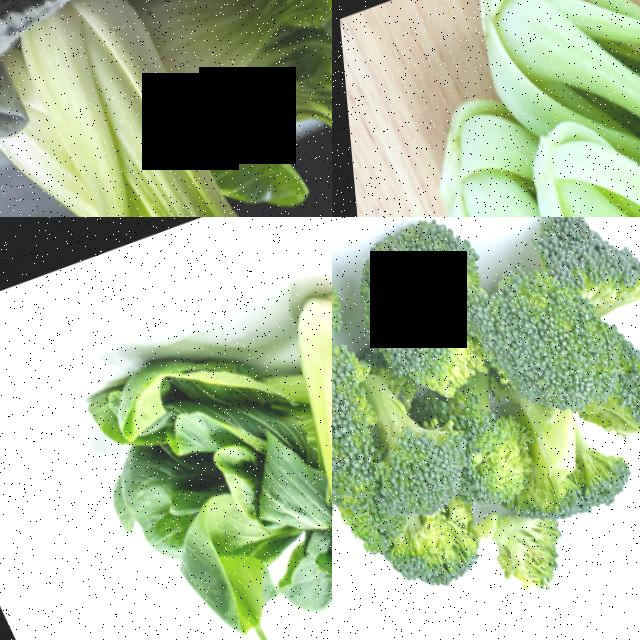-: (461, 246, 640, 441), (332, 241, 405, 516), (340, 230, 469, 385), (332, 358, 458, 511), (516, 217, 640, 335), (377, 520, 491, 607)
bok choy: (0, 0, 332, 217), (227, 256, 332, 640), (156, 0, 332, 217), (372, 87, 630, 217), (461, 0, 640, 152), (521, 69, 640, 217)
